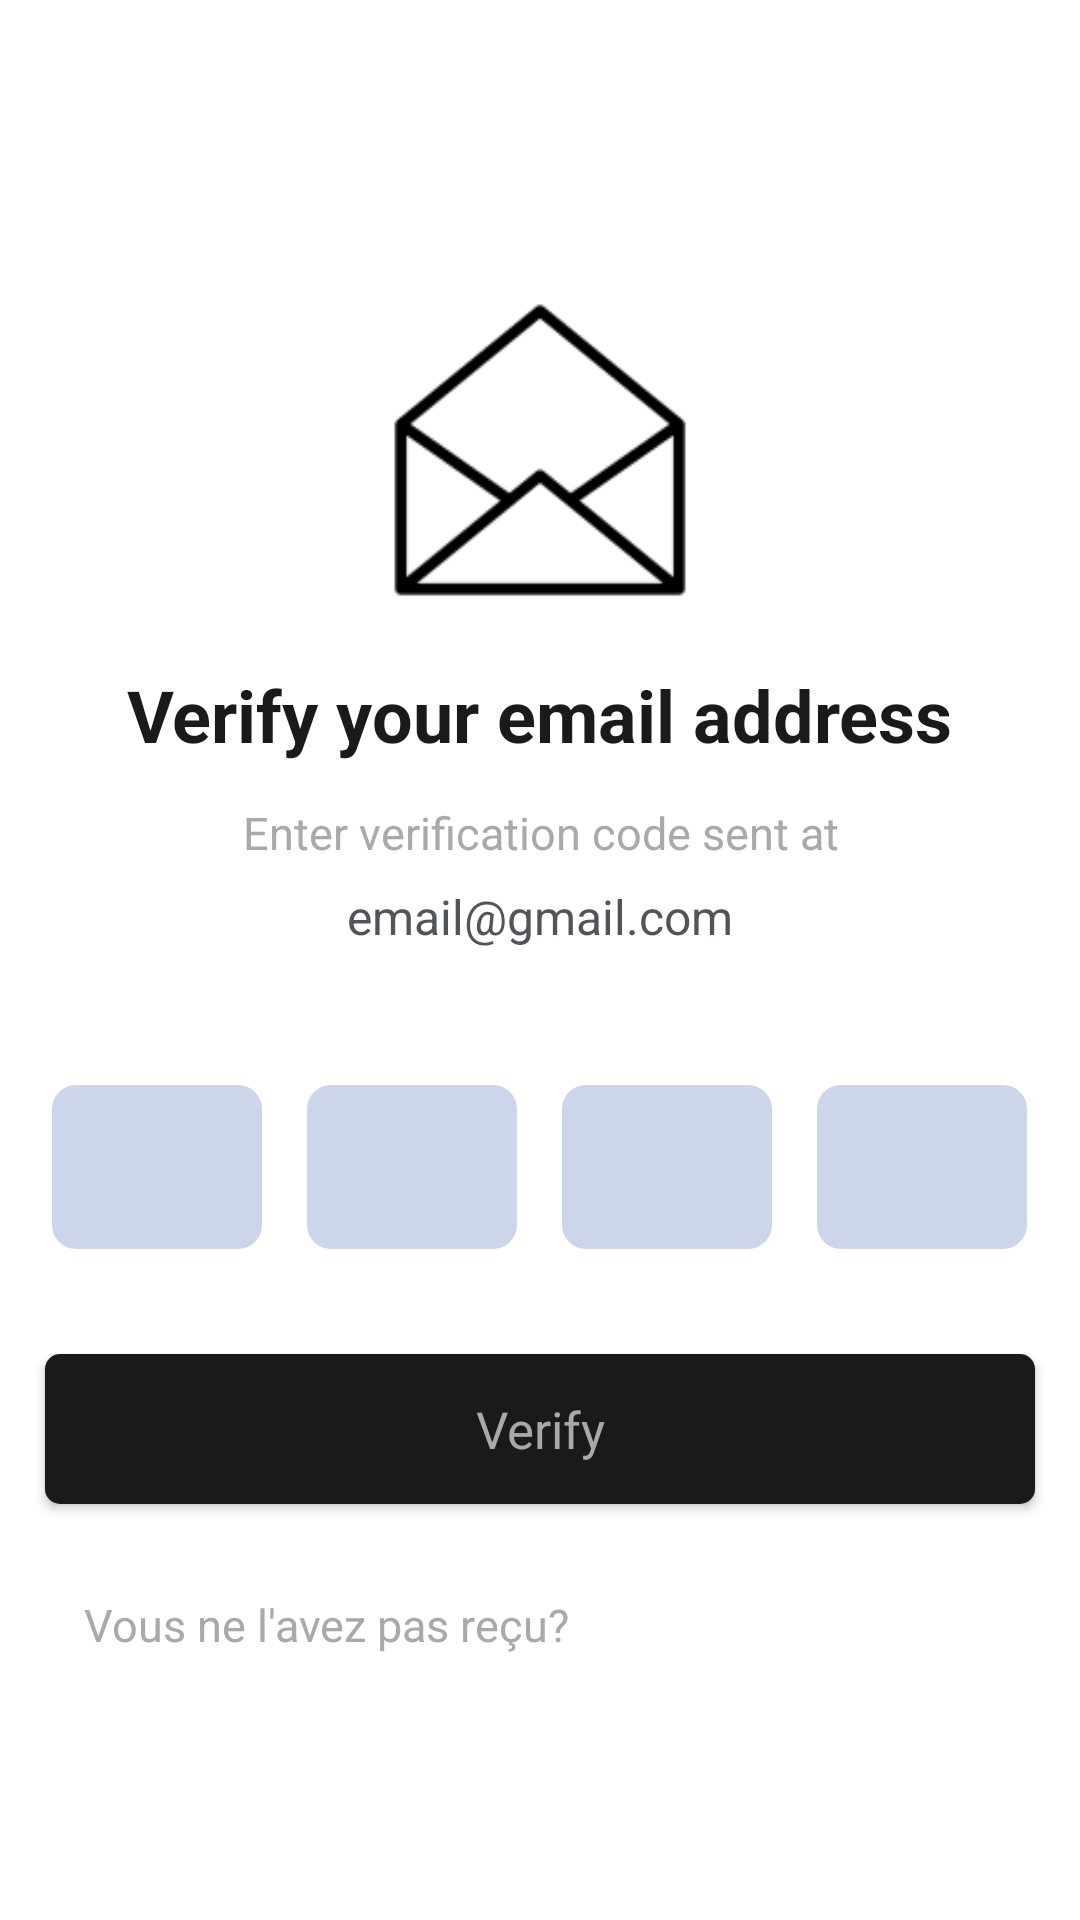

Screen size 1080px×1920px. Icon name, then its box in pixels as (x1, y1, x2, y2):
open email: (394, 304, 686, 596)
